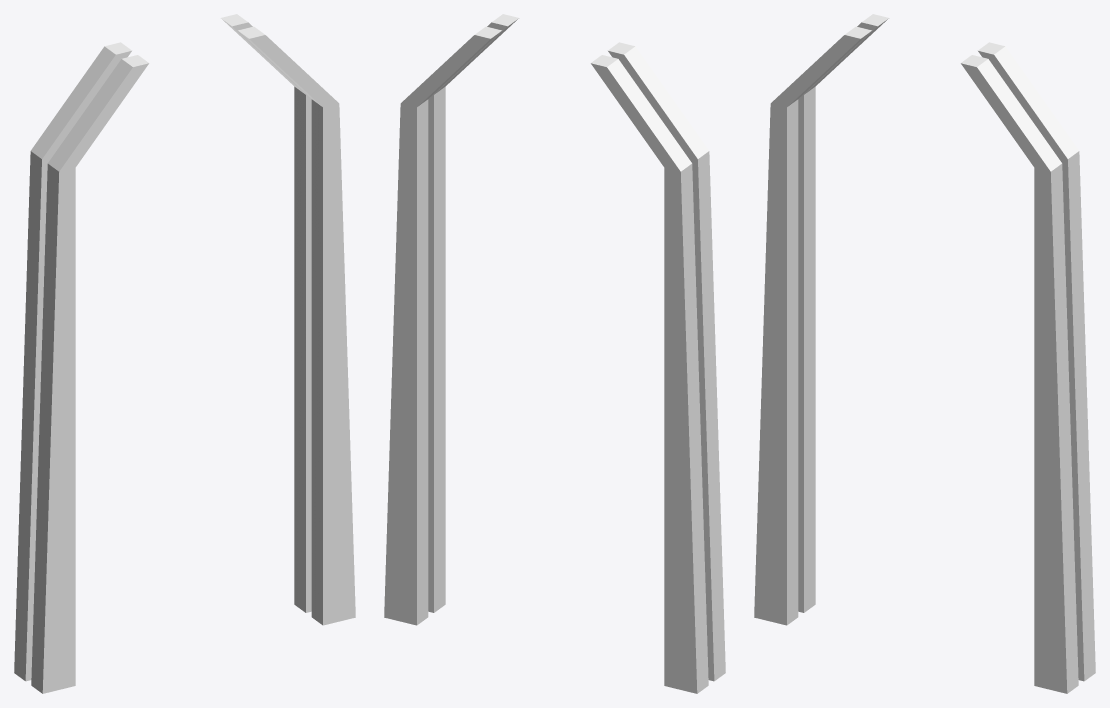
Rendered from inside.obj.
3 renders of one model, left to right at view 1: azimuth 30°, elevation 25°; view 2: azimuth 150°, elevation 25°; view 3: azimuth 330°, elevation 25°, orthographic.
Visible parts, largest first — view 1: inside; view 2: inside; view 3: inside.
Boxes of the visible parts, <box> form: inside: <box>14,14,355,693</box>; inside: <box>384,14,725,693</box>; inside: <box>754,14,1095,693</box>.
Bounding box in the file's own units: 1.9 × 3.5 × 0.2998.
1 material, 1 textured.
